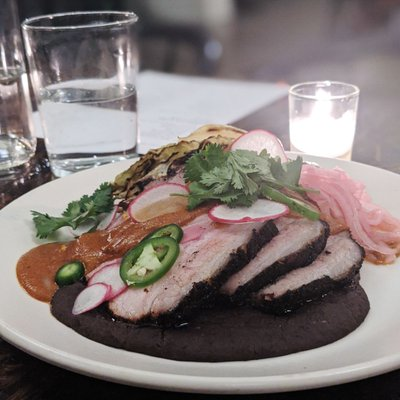pizza: (288, 80, 360, 161)
